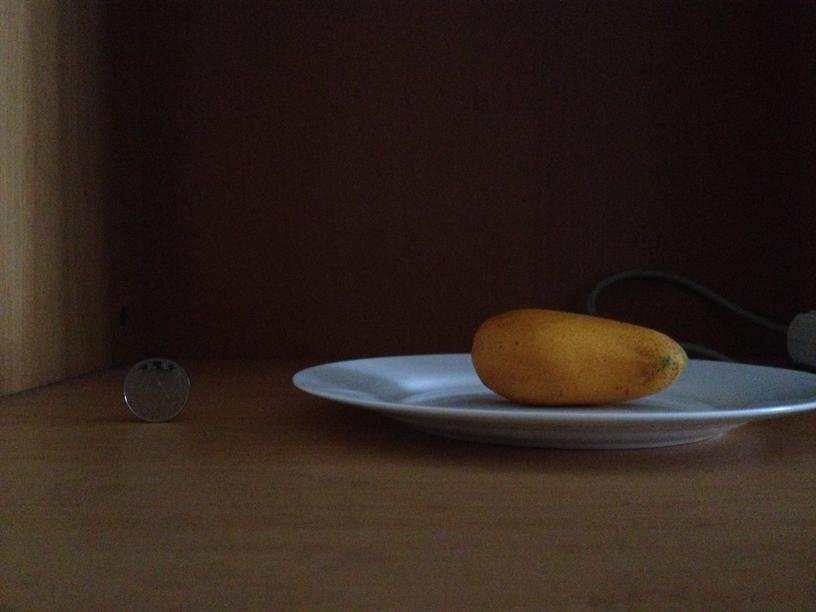coin: (121, 357, 191, 423)
mango: (468, 306, 684, 405)
